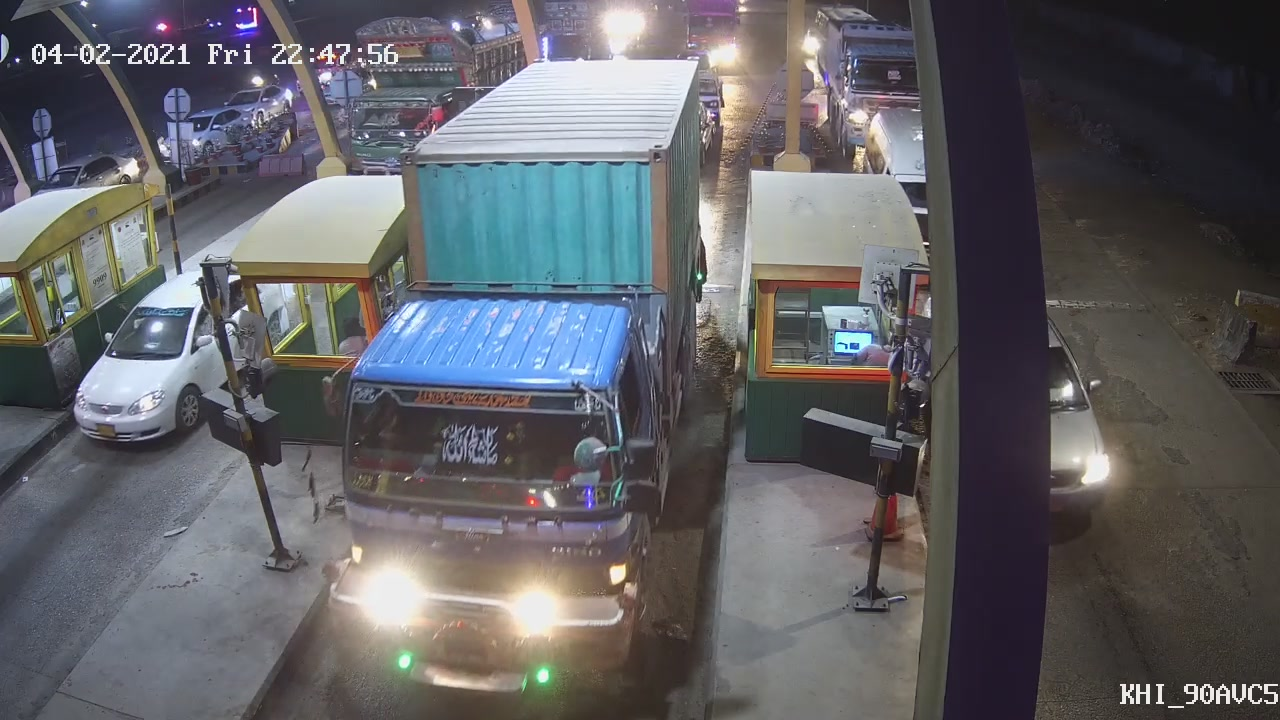F6: (320, 52, 710, 708)
